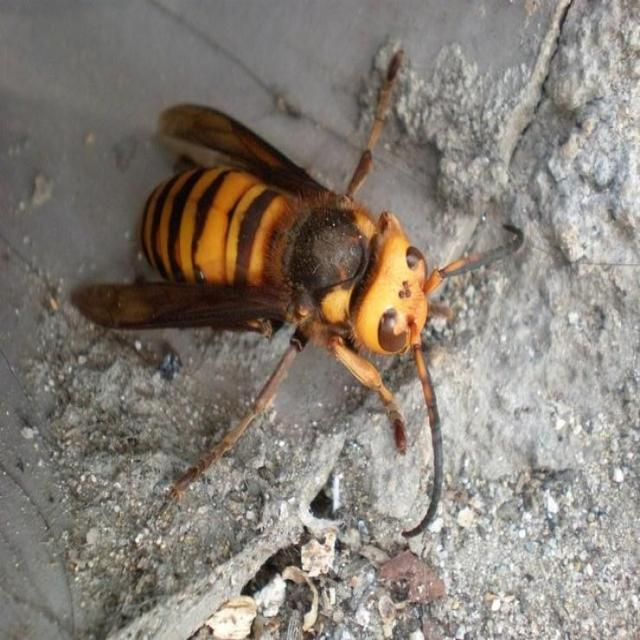Wasp: (89, 43, 505, 542)
